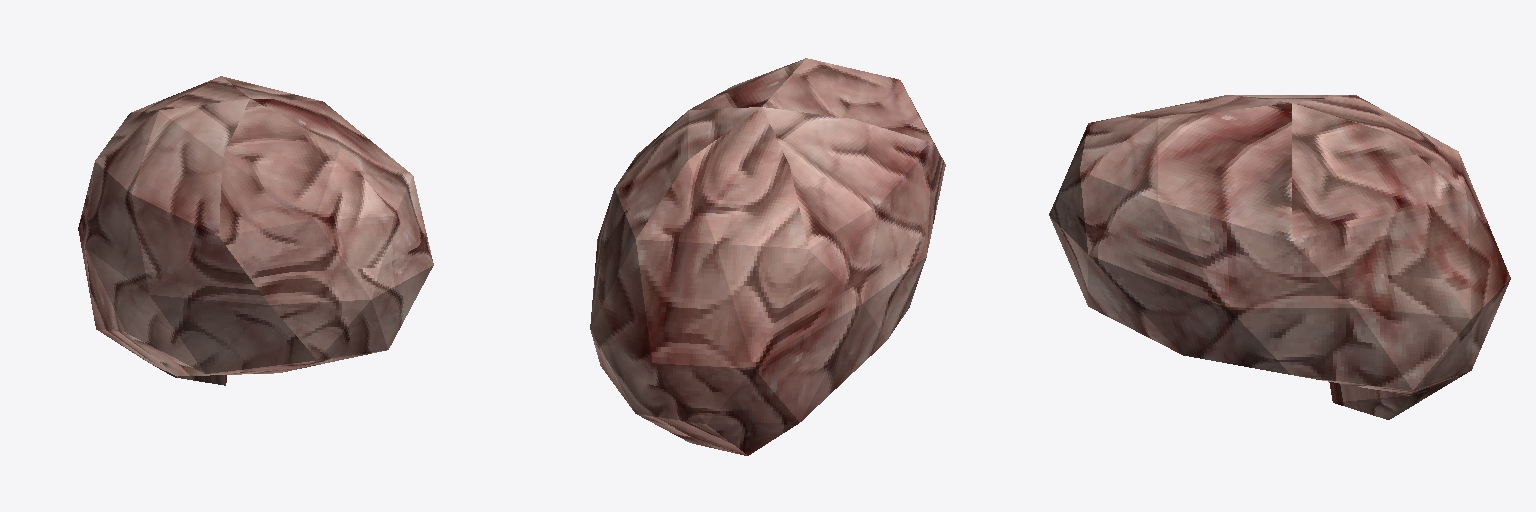
The picture shows the model from 3 angles: view 1: azimuth 30°, elevation 25°; view 2: azimuth 150°, elevation 25°; view 3: azimuth 270°, elevation 25°; orthographic projection.
Parts seen in each view (by area): view 1: Icosphere; view 2: Icosphere; view 3: Icosphere.
Boxes of the visible parts, <box> form: Icosphere: <box>78,76,433,385</box>; Icosphere: <box>590,58,945,455</box>; Icosphere: <box>1049,95,1510,419</box>.
Size of the model in its own units: 0.8338 by 0.9202 by 1.26.
Materials: 1 (1 with a texture image).